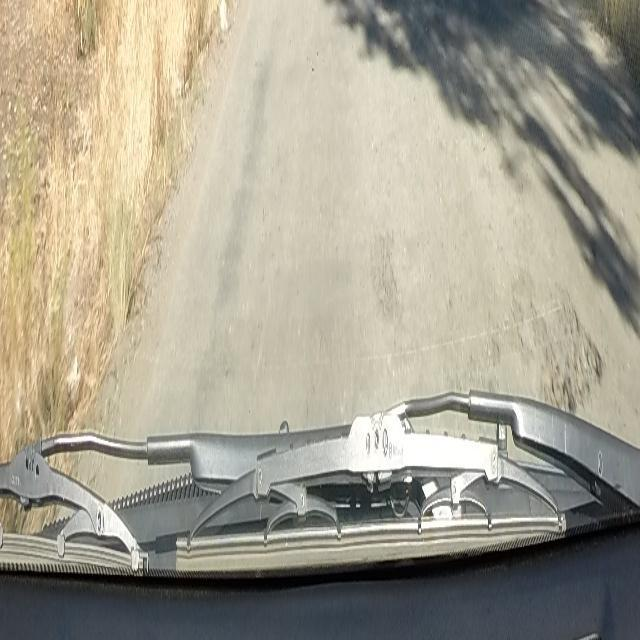pothole: (531, 285, 606, 423)
